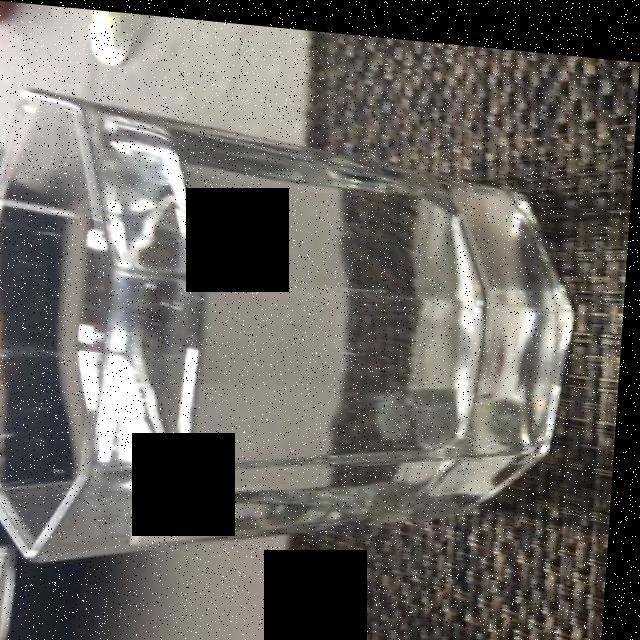water: (71, 117, 514, 539)
